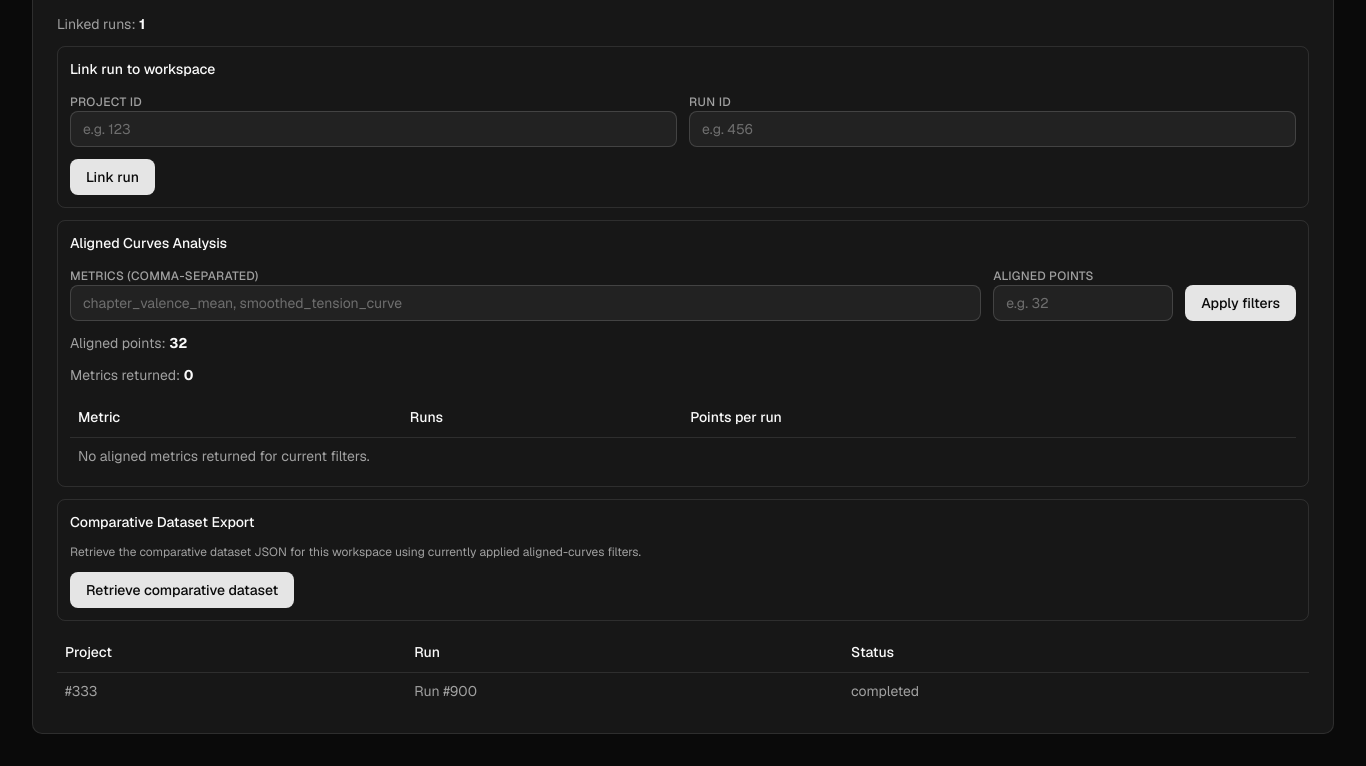
Scenario: comparison workspace detail page › retrieves comparative dataset export and renders summary
(page scrolled)
Click the button with test id "comparison-workspace-export-fetch-button": (182, 590) [70,572,294,608]
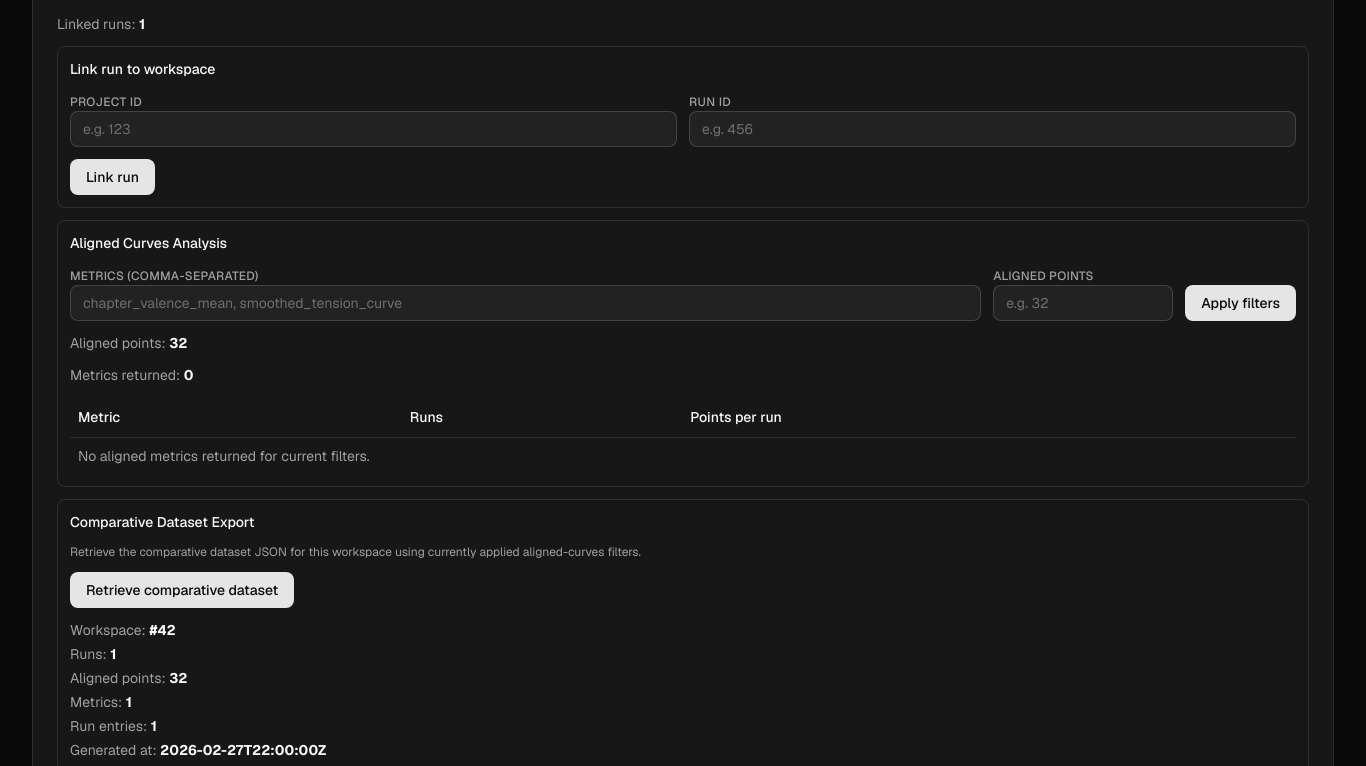
Check: the element with test id "comparison-workspace-export-summary" is shown, box [70,620,326,758]
Check: the text "2026-02-27T22:00:00Z" is shown, box [160,740,326,758]
